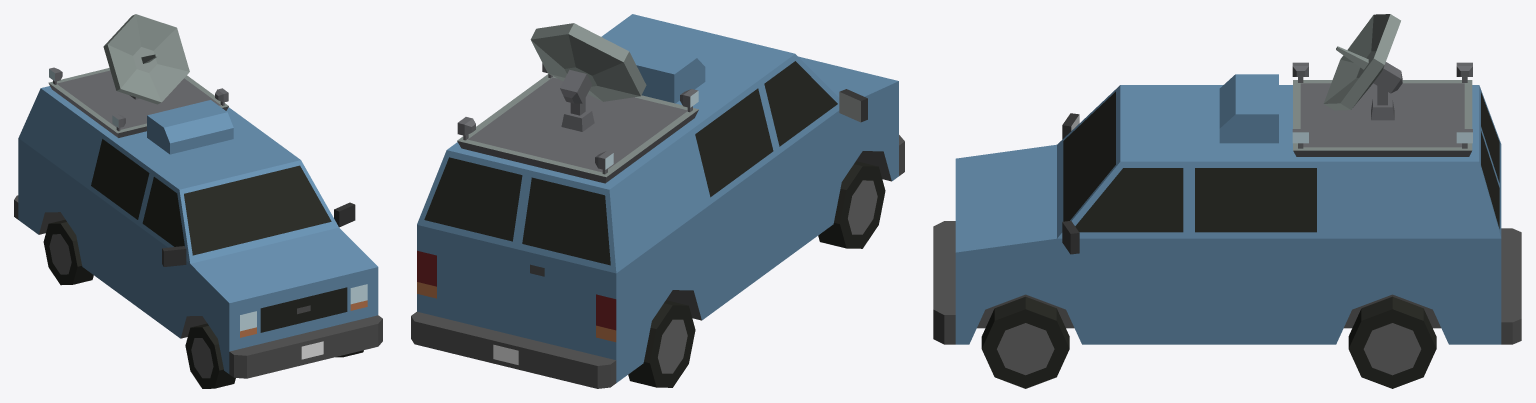
The model's file is Veh_News_Van.obj.
3 renders of one model, left to right at view 1: azimuth 30°, elevation 25°; view 2: azimuth 150°, elevation 25°; view 3: azimuth 270°, elevation 25°, orthographic. The views are drawn at different scales.
Size of the model in its own units: 1.38 by 1.75 by 2.84.
